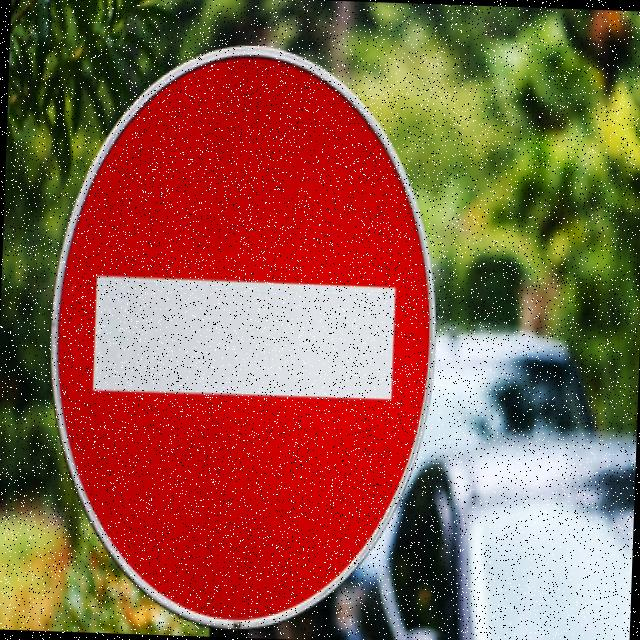do_not_enter: (32, 25, 460, 640)
